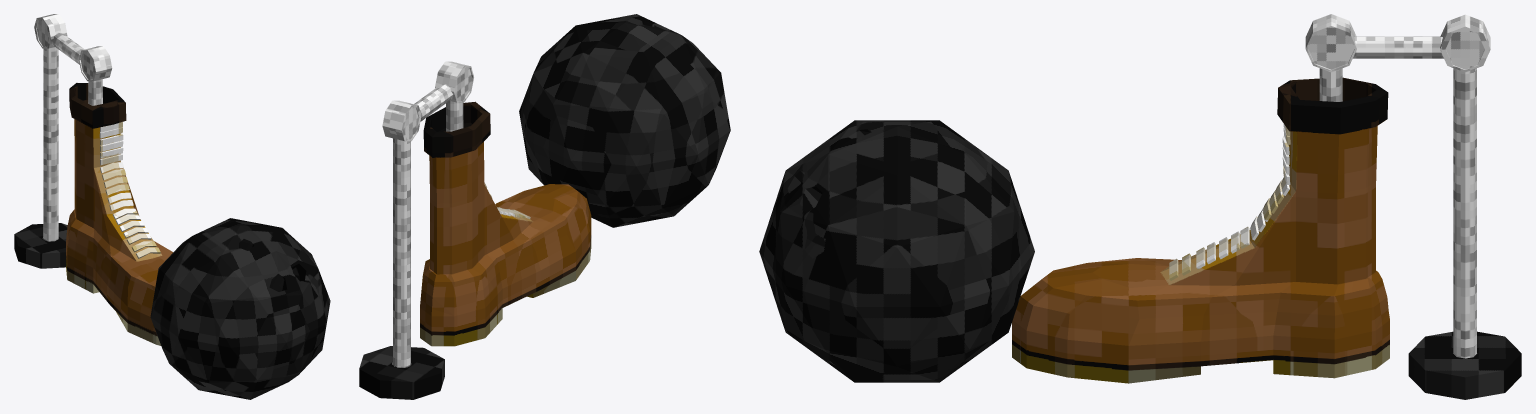
The model's file is Boot.fbx.
The picture shows the model from 3 angles, left to right: view 1: azimuth 30°, elevation 25°; view 2: azimuth 150°, elevation 25°; view 3: azimuth 270°, elevation 25°; orthographic projection. The views are drawn at different scales.
Visible parts, largest first — view 1: bowlball, boot, holder, holder1; view 2: bowlball, boot, holder, holder1; view 3: boot, bowlball, holder, holder1.
Boxes of the visible parts, x1,y1,x2,y2 form: bowlball: (150,218,330,399); boot: (66,79,172,345); holder: (14,14,84,268); holder1: (79,46,112,81); bowlball: (519,14,730,227); boot: (420,101,591,346); holder: (359,84,452,399); holder1: (435,61,473,102); boot: (1012,68,1389,383); bowlball: (759,120,1034,382); holder: (1353,14,1521,399); holder1: (1305,14,1356,72).
Bounding box in the file's own units: 139 × 208 × 403.
Materials: 7 (7 with a texture image).
